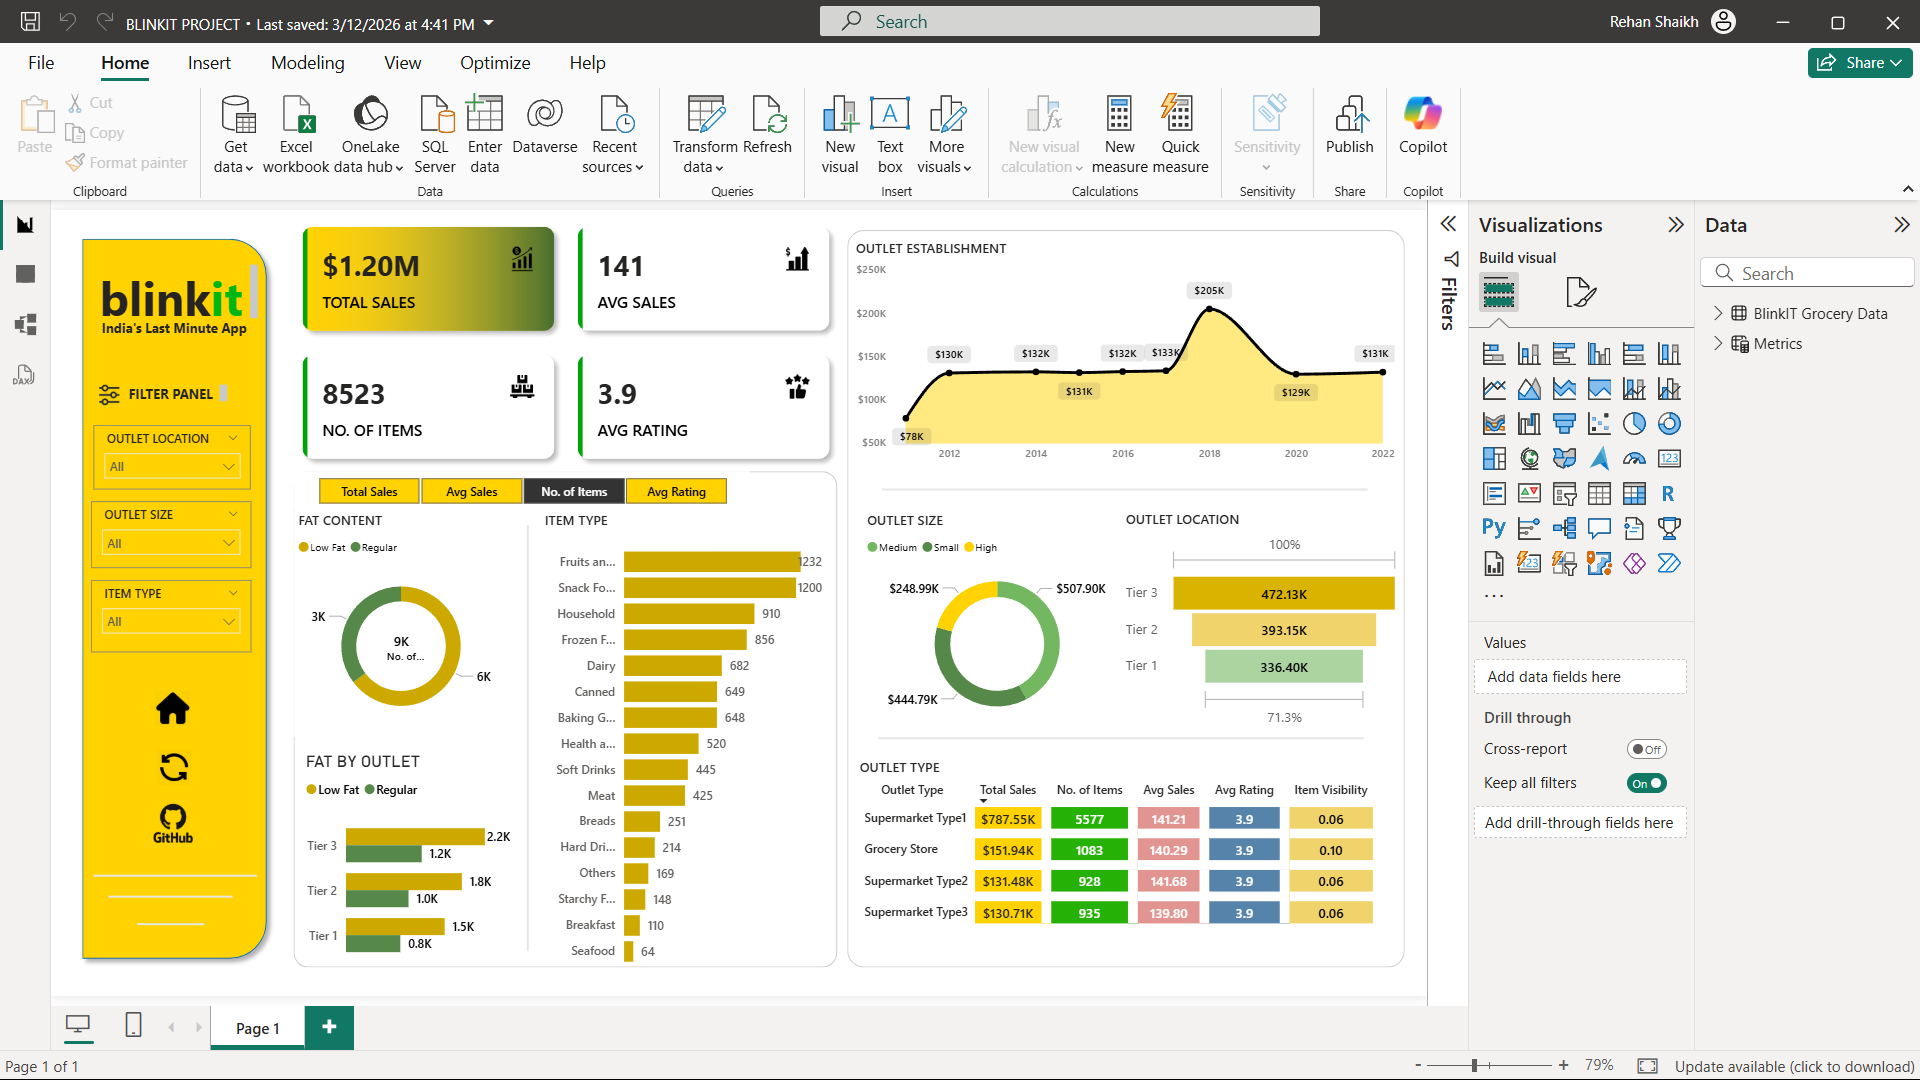

What the dashboard file says about the page in this screenshot:
{"tool":"powerbi","page":{"name":"Page 1","canvas":[1400,800],"ordinal":0},"visuals":[{"type":"shape","box":[23.3,19.9,205.6,750.4],"z":0},{"type":"textbox","box":[36.8,51.5,178.6,69],"z":1000},{"type":"textbox","box":[23.8,105.4,202.6,40],"z":2000},{"type":"cardVisual","fields":{"Data":["BlinkIT Grocery Data.Total Sales","BlinkIT Grocery Data.Avg Sales","BlinkIT Grocery Data.No. of Items","BlinkIT Grocery Data.Avg Rating"]},"box":[239.5,0.4,570.3,270.2],"z":3000},{"type":"shape","box":[247,266.2,553.2,504.9],"z":4000},{"type":"donutChart","title":"FAT CONTENT","fields":{"Y":["BlinkIT Grocery Data.No. of Items"],"Category":["BlinkIT Grocery Data.Item Fat Content"]},"box":[247,306.6,219.1,229.6],"z":5000},{"type":"slicer","fields":{"Values":["Metrics.Metrics"]},"box":[247,266.1,465,40],"z":6000},{"type":"cardVisual","fields":{"Data":["BlinkIT Grocery Data.No. of Items"]},"box":[311.5,411.7,90.1,54],"z":7000},{"type":"clusteredBarChart","title":"FAT BY OUTLET","fields":{"Y":["BlinkIT Grocery Data.No. of Items"],"Category":["BlinkIT Grocery Data.Outlet Location Type"],"Series":["BlinkIT Grocery Data.Item Fat Content"]},"box":[254.8,550.3,218,229.8],"z":8000},{"type":"shape","box":[43.3,634.3,166.8,85.4],"z":9000},{"type":"shape","box":[473.6,320.1,24,433.7],"z":10000},{"type":"barChart","title":"ITEM TYPE","fields":{"Y":["BlinkIT Grocery Data.No. of Items"],"Category":["BlinkIT Grocery Data.Item Type"]},"box":[497.5,306.9,292.5,474.4],"z":11000},{"type":"shape","box":[810.1,20.3,567.2,750.4],"z":12000},{"type":"lineChart","title":"OUTLET ESTABLISHMENT","fields":{"Y":["BlinkIT Grocery Data.Total Sales"],"Category":["BlinkIT Grocery Data.Outlet Establishment Year"]},"box":[814.3,28.9,558.3,235.6],"z":13000},{"type":"shape","box":[845.8,242.1,493.8,85.5],"z":14000},{"type":"donutChart","title":"OUTLET SIZE","fields":{"Y":["BlinkIT Grocery Data.Total Sales"],"Category":["BlinkIT Grocery Data.Outlet Size"]},"box":[824.8,306.6,275,225],"z":15000},{"type":"funnel","title":"OUTLET LOCATION","fields":{"Y":["Sum(BlinkIT Grocery Data.Sales)"],"Category":["BlinkIT Grocery Data.Outlet Location Type"]},"box":[1088.9,305.7,288.7,226.4],"z":16000},{"type":"shape","box":[841.8,495.1,493.8,85.4],"z":17000},{"type":"pivotTable","title":"OUTLET TYPE","fields":{"Values":["BlinkIT Grocery Data.Total Sales","BlinkIT Grocery Data.No. of Items","BlinkIT Grocery Data.Avg Sales","BlinkIT Grocery Data.Avg Rating","Avg(BlinkIT Grocery Data.Item Visibility)"],"Rows":["BlinkIT Grocery Data.Outlet Type"]},"box":[818.2,556.8,554.2,203.6],"z":18000},{"type":"slicer","fields":{"Values":["BlinkIT Grocery Data.Outlet Location Type"]},"box":[43.3,219.3,160.2,65.7],"z":19000},{"type":"slicer","fields":{"Values":["BlinkIT Grocery Data.Outlet Size"]},"box":[40.7,296.8,162.9,68.3],"z":20000},{"type":"slicer","fields":{"Values":["BlinkIT Grocery Data.Item Type"]},"box":[40.7,376.9,162.9,73.5],"z":21000},{"type":"textbox","box":[67.7,173.4,117,26.7],"z":21001},{"type":"image","box":[37.1,173.4,44.5,30.5],"z":21002},{"type":"image","box":[101.1,535.8,47.3,63],"z":21003},{"type":"image","box":[98.5,483.3,52.5,47.3],"z":21004},{"type":"image","box":[98.5,598.9,52.5,49.9],"z":21005},{"type":"shape","box":[59.1,664.5,126.1,67],"z":21006},{"type":"shape","box":[88,693.4,68.3,67],"z":21007}]}

Visuals, with their boxes on the page's 1400x800 design canvas (x1, y1, x2, y2). These are canvas units, not pixel positions in the 1920x1080 screenshot, which may show the page scaled, cropped or inside an application window:
shape: (23,20,229,770)
textbox: (37,52,215,120)
textbox: (24,105,226,145)
cardVisual - BlinkIT Grocery Data.Total Sales x BlinkIT Grocery Data.Avg Sales: (240,0,810,271)
shape: (247,266,800,771)
"FAT CONTENT" donutChart: (247,307,466,536)
slicer - Metrics.Metrics: (247,266,712,306)
cardVisual - BlinkIT Grocery Data.No. of Items: (312,412,402,466)
"FAT BY OUTLET" clusteredBarChart: (255,550,473,780)
shape: (43,634,210,720)
shape: (474,320,498,754)
"ITEM TYPE" barChart: (498,307,790,781)
shape: (810,20,1377,771)
"OUTLET ESTABLISHMENT" lineChart: (814,29,1373,264)
shape: (846,242,1340,328)
"OUTLET SIZE" donutChart: (825,307,1100,532)
"OUTLET LOCATION" funnel: (1089,306,1378,532)
shape: (842,495,1336,580)
"OUTLET TYPE" pivotTable: (818,557,1372,760)
slicer - BlinkIT Grocery Data.Outlet Location Type: (43,219,204,285)
slicer - BlinkIT Grocery Data.Outlet Size: (41,297,204,365)
slicer - BlinkIT Grocery Data.Item Type: (41,377,204,450)
textbox: (68,173,185,200)
image: (37,173,82,204)
image: (101,536,148,599)
image: (98,483,151,531)
image: (98,599,151,649)
shape: (59,664,185,732)
shape: (88,693,156,760)
